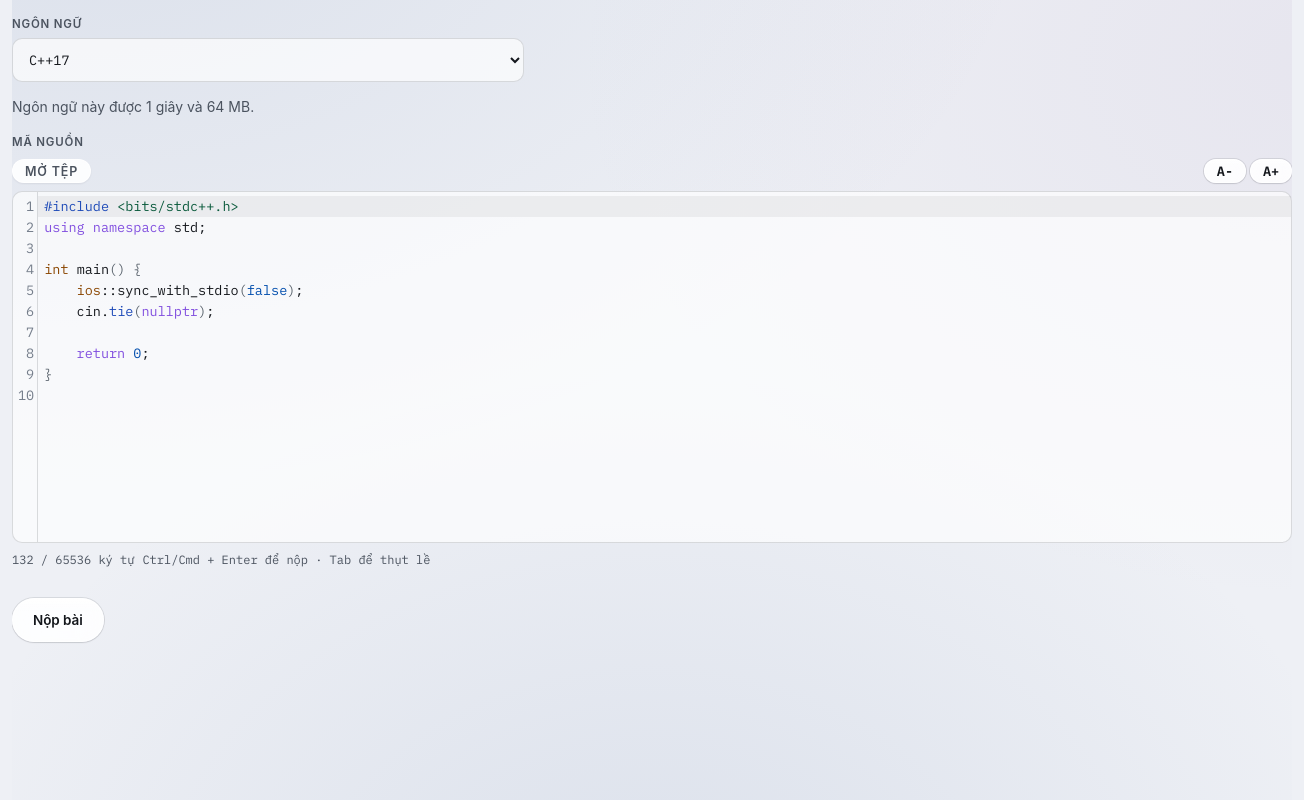
Test: the language picker, once there is more than one language › shows the selected language's OWN limits, and re-reads them on a switch
This screenshot has width=1304, height=800.
Expected: the text "Ngôn ngữ này được 1 giây và 64 MB." is shown, [12,98,254,115]
Select "Python 3" in the dropdown labelled "Ngôn ngữ": (268, 60) [12,38,524,82]
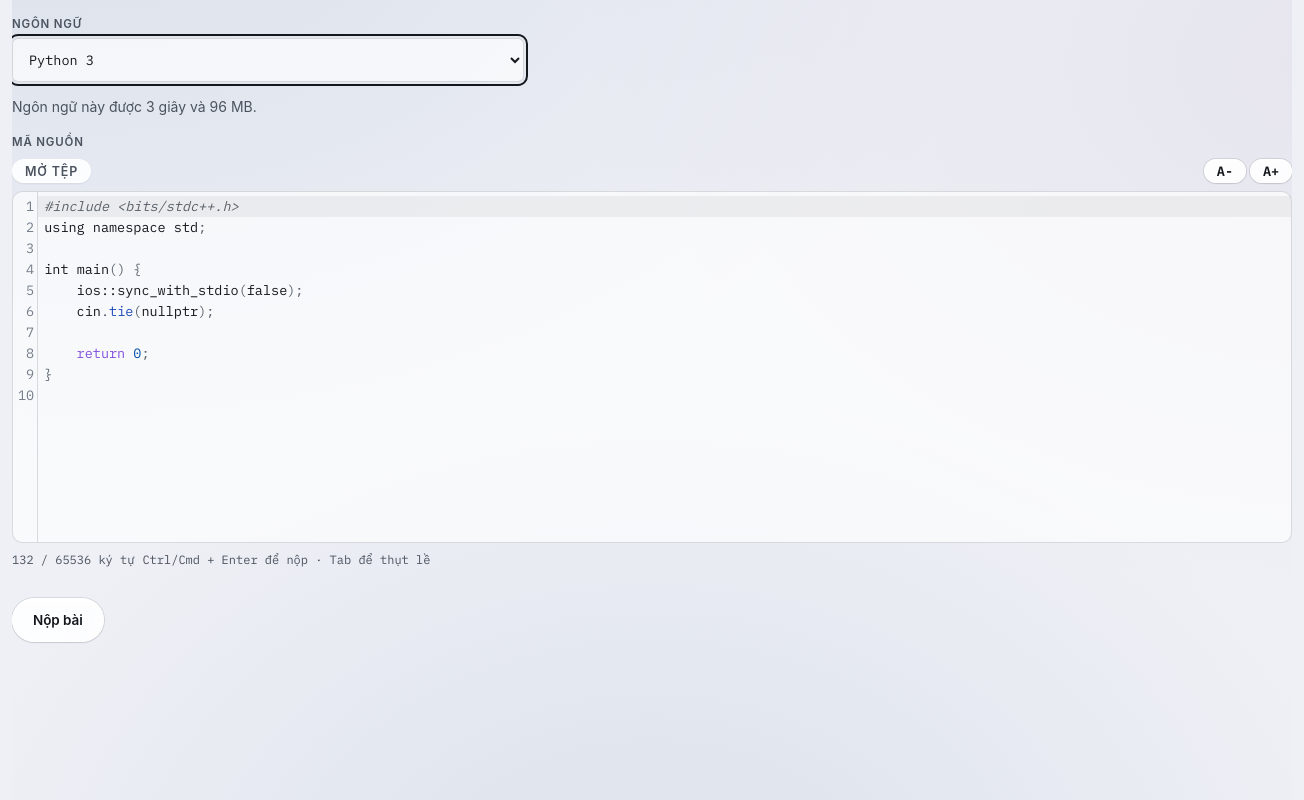
Now the text "Ngôn ngữ này được 3 giây và 96 MB." is shown, box [12,98,257,115]
Now the text "1 giây và 64 MB" is gone
